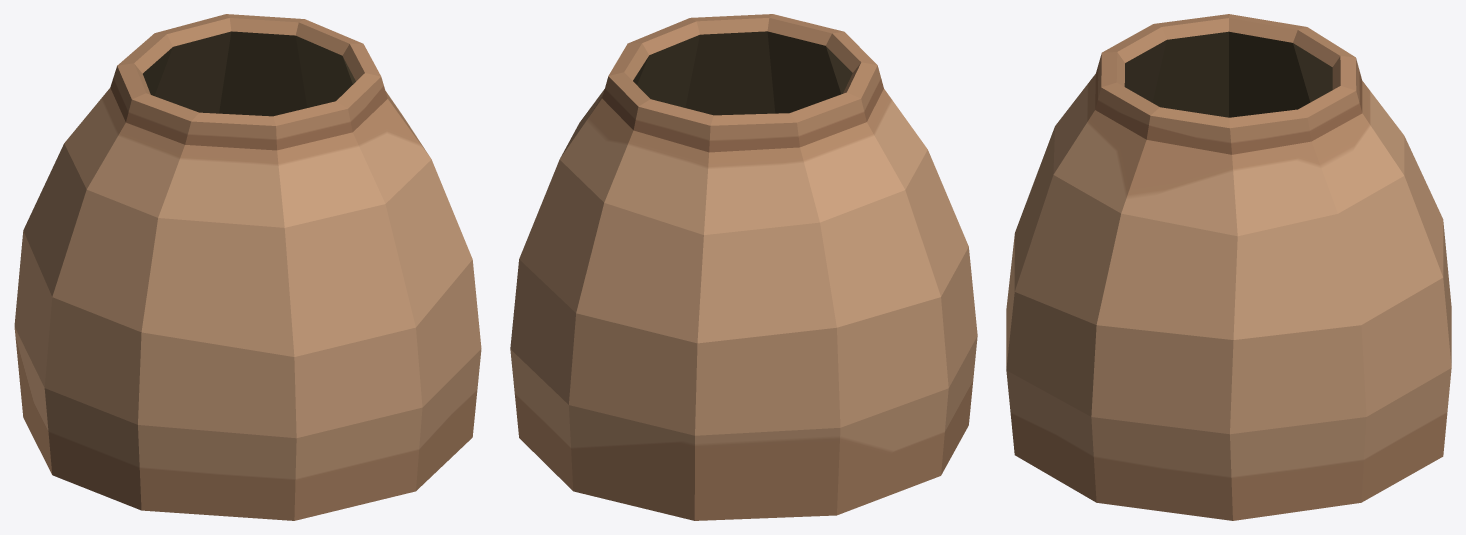
The model's file is SM_Prop_ClayJar_01.fbx.
3 views of the same model, side by side, from view 1: azimuth 30°, elevation 25°; view 2: azimuth 150°, elevation 25°; view 3: azimuth 270°, elevation 25° (orthographic).
Parts seen in each view (by area): view 1: SM_Prop_ClayJar_01; view 2: SM_Prop_ClayJar_01; view 3: SM_Prop_ClayJar_01.
Part boxes in pixels (x1=…): SM_Prop_ClayJar_01: x1=14, y1=14, x2=481, y2=520; SM_Prop_ClayJar_01: x1=510, y1=14, x2=977, y2=520; SM_Prop_ClayJar_01: x1=1006, y1=14, x2=1451, y2=520.
Bounding box in the file's own units: 125 × 106 × 119.
